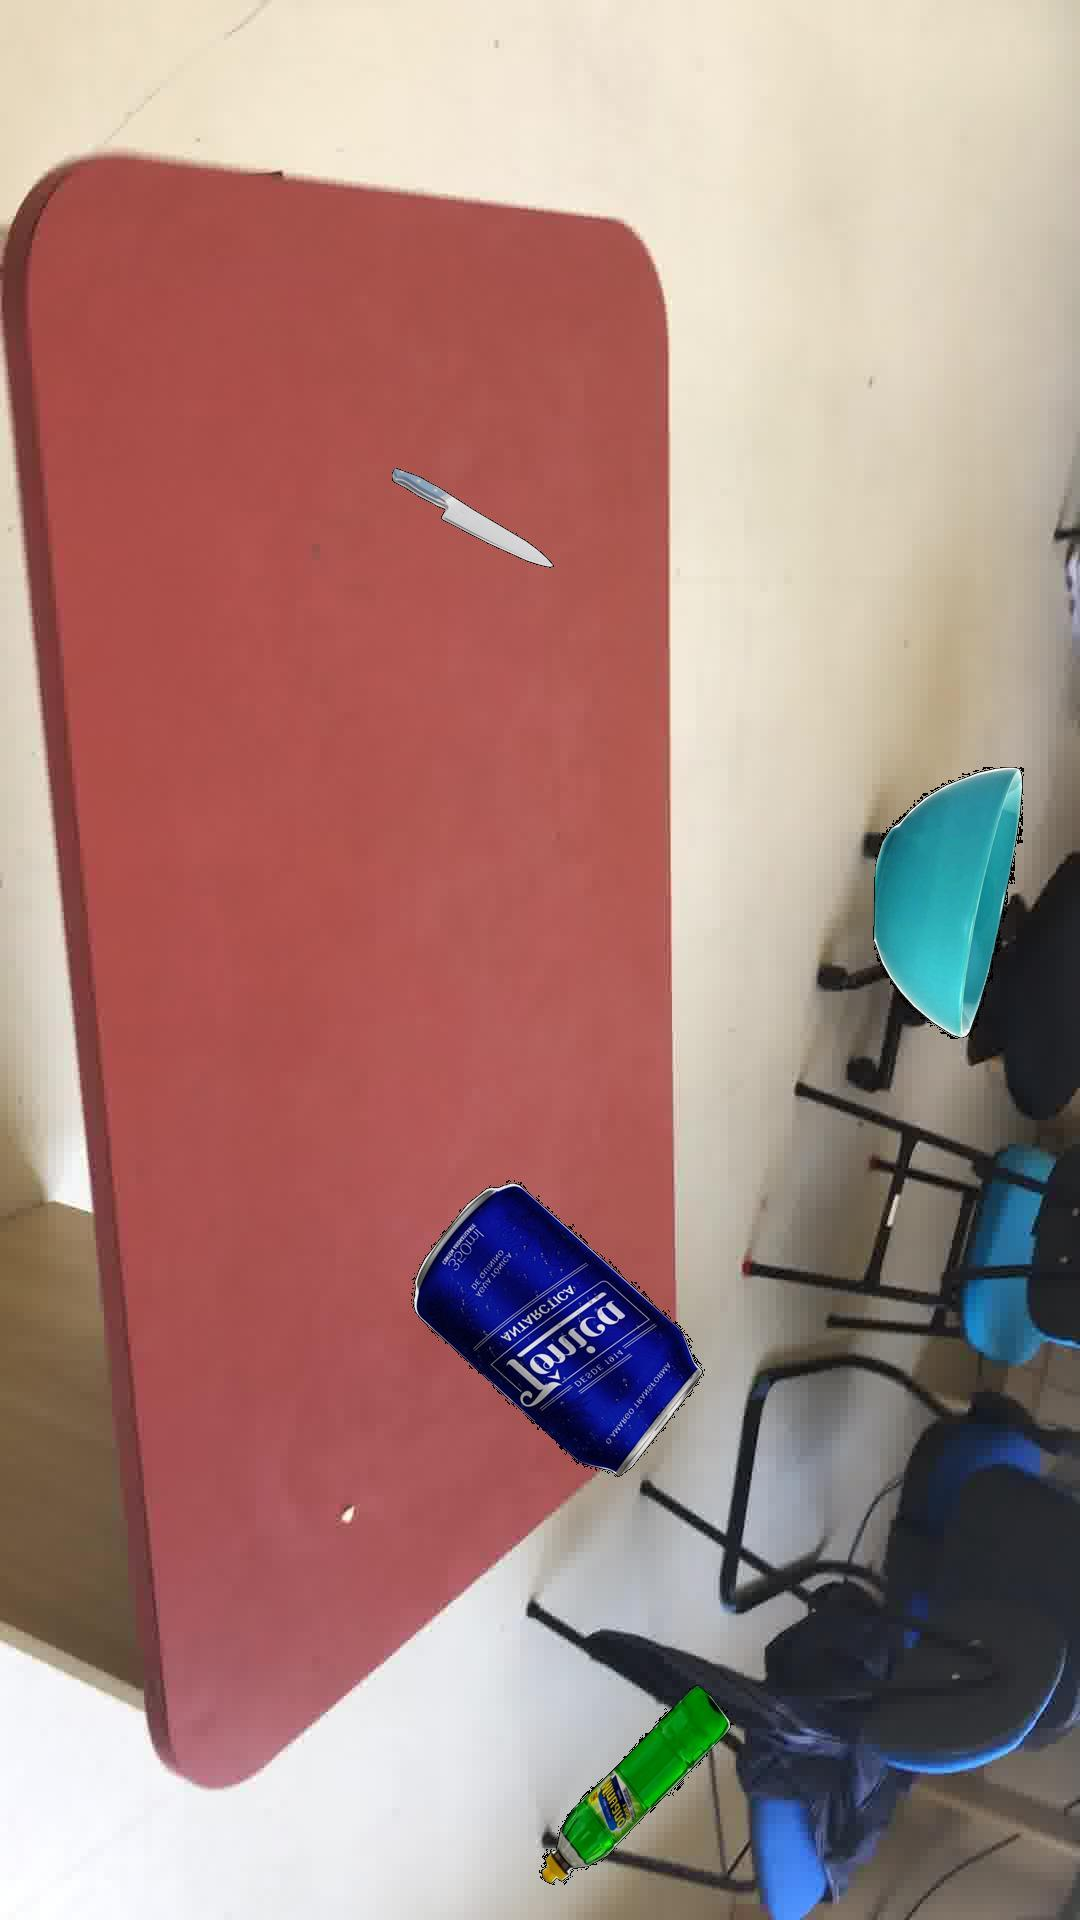bowl: (872, 766, 1022, 1038)
cleaner: (538, 1684, 732, 1883)
knife: (390, 467, 553, 567)
tonic: (410, 1180, 702, 1476)
